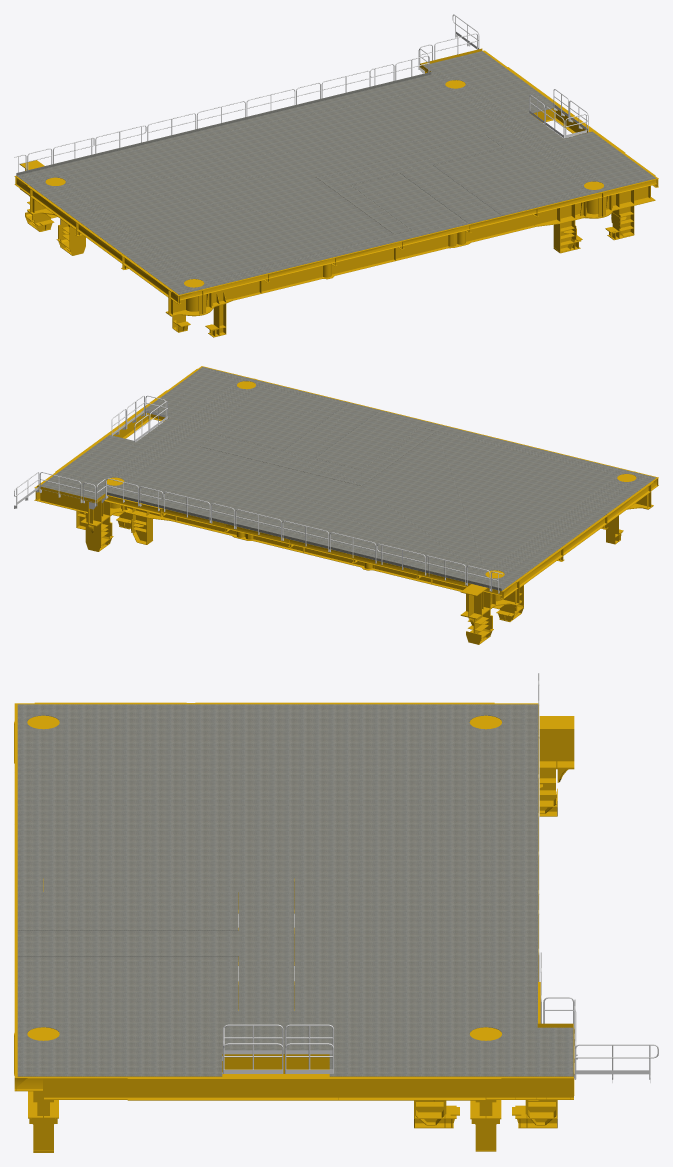
Rendered from Zone_S2_Structure_01.fbx.
The picture shows the model from 3 angles, top to bottom: view 1: azimuth 30°, elevation 25°; view 2: azimuth 150°, elevation 25°; view 3: azimuth 270°, elevation 25°; orthographic projection. The views are drawn at different scales.
Parts seen in each view (by area): view 1: Zone_S2_slab_steel_Level0, Zone_S2_structure_Level0, Zone_S2_handrails_Level0; view 2: Zone_S2_slab_steel_Level0, Zone_S2_structure_Level0, Zone_S2_handrails_Level0; view 3: Zone_S2_slab_steel_Level0, Zone_S2_structure_Level0, Zone_S2_handrails_Level0.
Boxes of the visible parts, bbox=[...] form: Zone_S2_slab_steel_Level0: bbox=[16, 51, 655, 294]; Zone_S2_structure_Level0: bbox=[14, 48, 658, 337]; Zone_S2_handrails_Level0: bbox=[14, 14, 588, 172]; Zone_S2_slab_steel_Level0: bbox=[40, 367, 656, 590]; Zone_S2_structure_Level0: bbox=[34, 366, 658, 644]; Zone_S2_handrails_Level0: bbox=[14, 395, 502, 593]; Zone_S2_slab_steel_Level0: bbox=[17, 704, 573, 1076]; Zone_S2_structure_Level0: bbox=[14, 702, 574, 1152]; Zone_S2_handrails_Level0: bbox=[222, 673, 658, 1082].
Size of the model in its own units: 3020 by 449 by 2187.
Materials: 3 (1 with a texture image).
